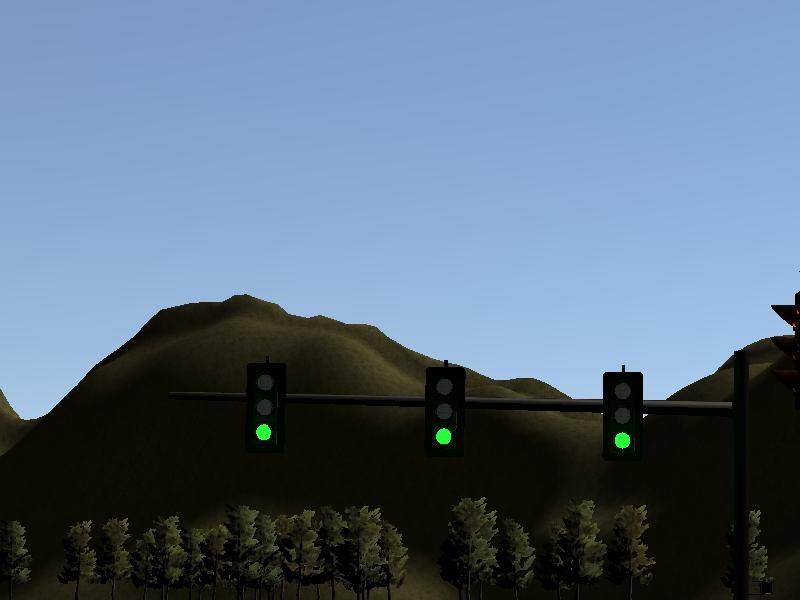GREEN: (594, 366, 652, 472), (418, 363, 468, 457), (247, 372, 282, 451)
